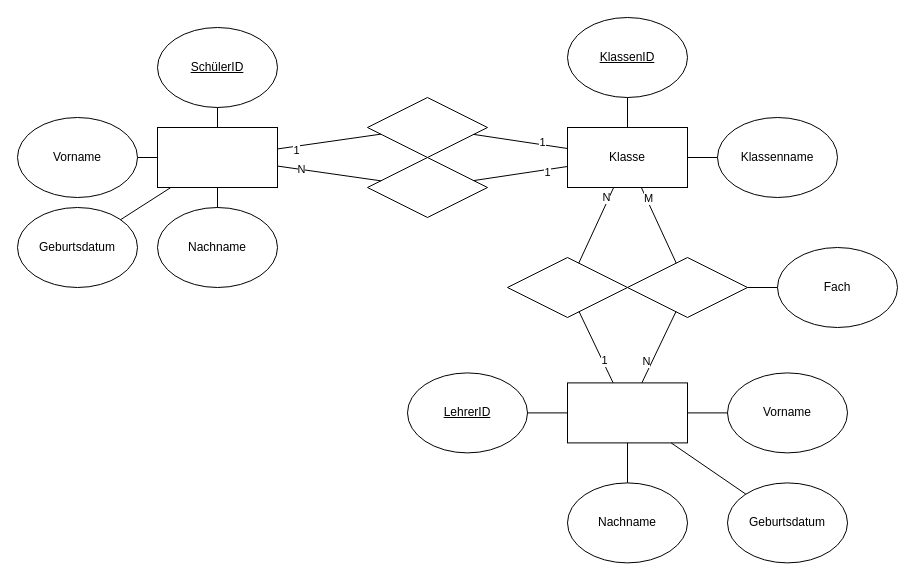
Some shapes in this 915 by 581 pixel diagram are drawn without their labels. Here are the shapes that lost their labels. From the top down, the centre of each, then its label:
At point 427,127: "ist klassensprecher".
At point 217,157: "Schüler".
At point 427,187: "hat".
At point 567,287: "Ist klassenlehrer von".
At point 687,287: "unterrichtet".
At point 627,412: "Lehrer".
